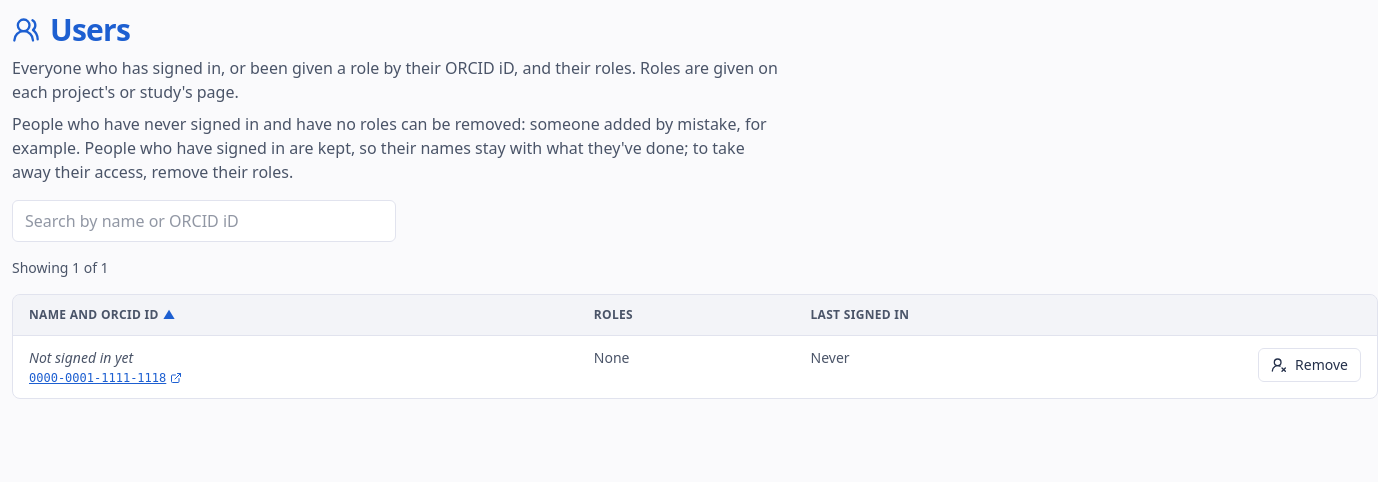
Test: UsersPage › explains why someone could not be removed
Click the button with aria-label "Remove 0000-0001-1111-1118" at (1310, 365), box [1258,348,1361,382]
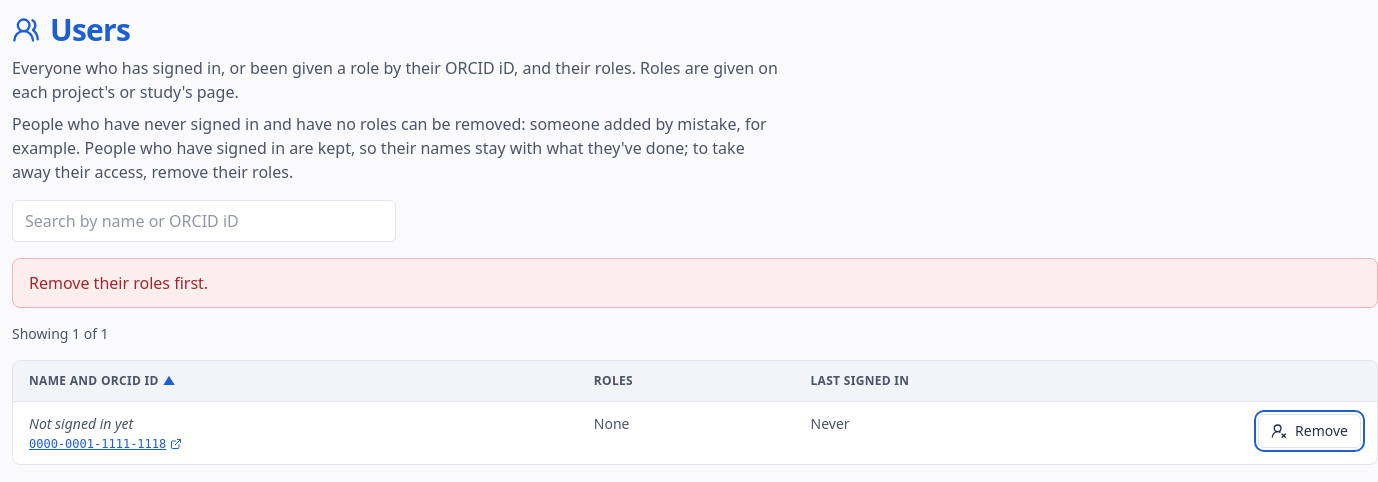
Now the message reads "Remove their roles first.", box [29,272,208,294]
